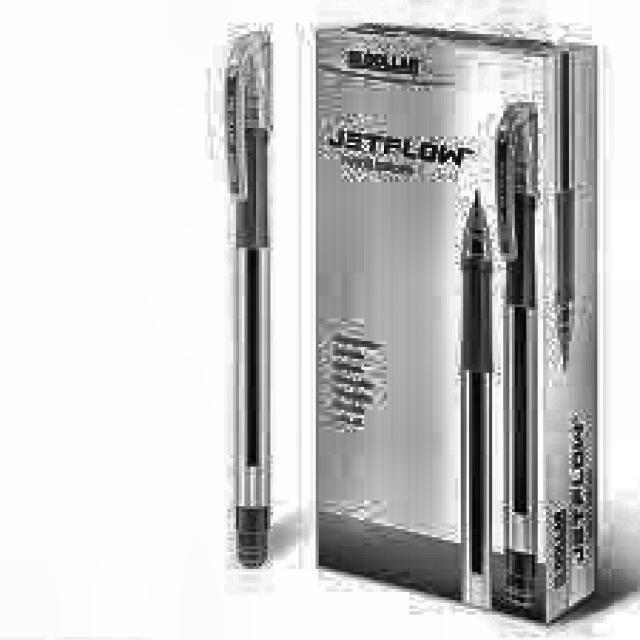Pen: (198, 27, 292, 569), (488, 95, 546, 605), (447, 175, 493, 610), (548, 47, 583, 381)
